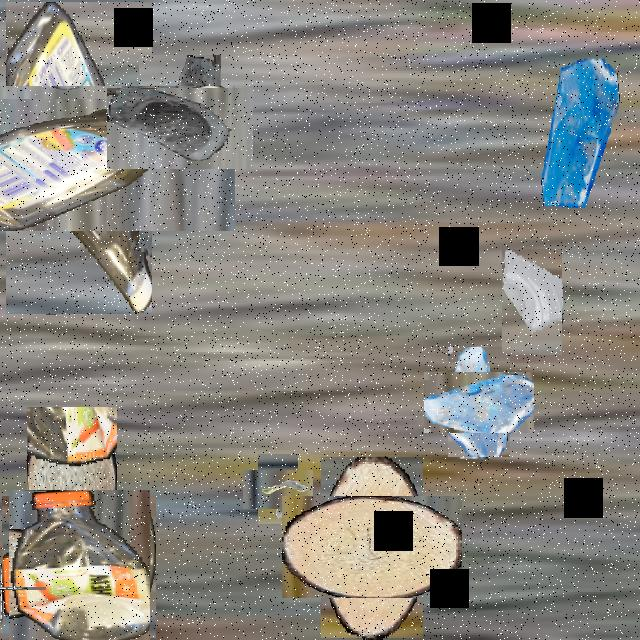glass: (123, 71, 237, 185), (538, 59, 622, 208), (436, 359, 522, 445), (502, 249, 562, 355)
metal: (250, 461, 306, 517), (0, 565, 24, 611)
plastic: (0, 43, 193, 272), (5, 493, 153, 640)
wood: (301, 477, 443, 618), (27, 407, 117, 557)
